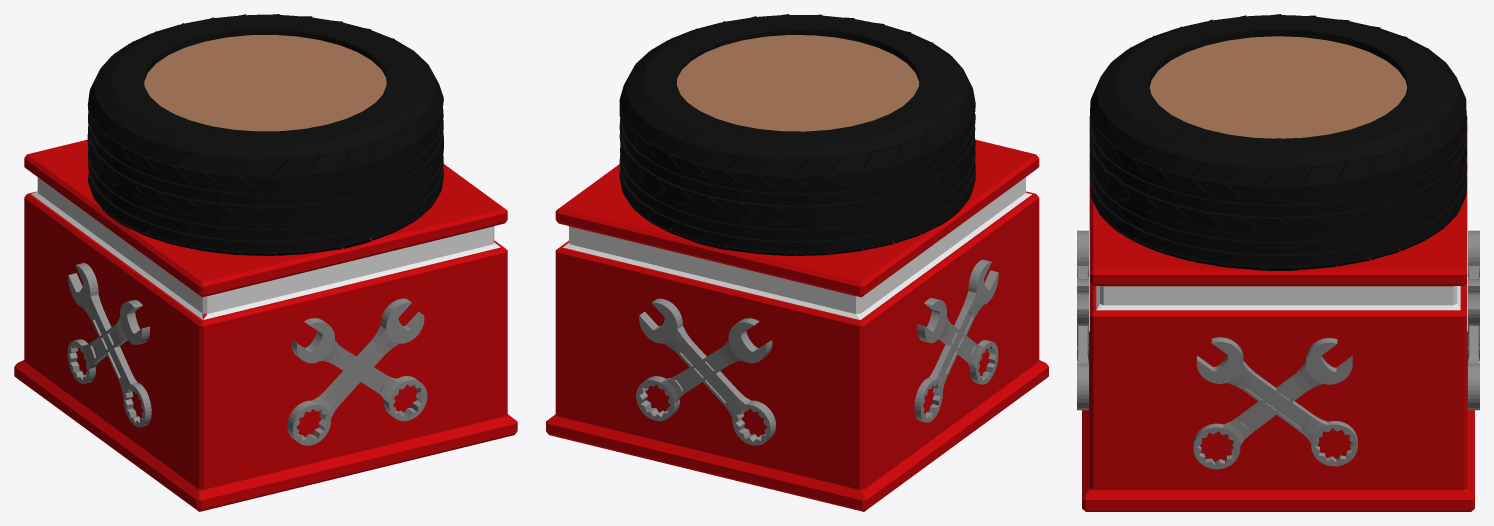
File: CarCounter.fbx
The picture shows the model from 3 angles, left to right: view 1: azimuth 30°, elevation 25°; view 2: azimuth 150°, elevation 25°; view 3: azimuth 270°, elevation 25°; orthographic projection. The views are drawn at different scales.
Visible parts, largest first — view 1: Cube, Tire.001, Wrench.002, Wrench.003; view 2: Cube, Tire.001, Wrench.002, Wrench.003; view 3: Cube, Tire.001, Wrench.003, Wrench.002.
Part boxes in pixels (bbox=[...]): Cube: bbox=[14, 139, 517, 511]; Tire.001: bbox=[87, 14, 443, 255]; Wrench.002: bbox=[287, 298, 427, 445]; Wrench.003: bbox=[67, 262, 151, 427]; Cube: bbox=[546, 139, 1048, 511]; Tire.001: bbox=[619, 14, 975, 255]; Wrench.002: bbox=[636, 298, 775, 445]; Wrench.003: bbox=[914, 259, 998, 422]; Cube: bbox=[1082, 117, 1474, 511]; Tire.001: bbox=[1089, 14, 1467, 270]; Wrench.003: bbox=[1193, 337, 1357, 469]; Wrench.002: bbox=[1077, 230, 1479, 410].
Bounding box in the file's own units: 211 × 202 × 213.
